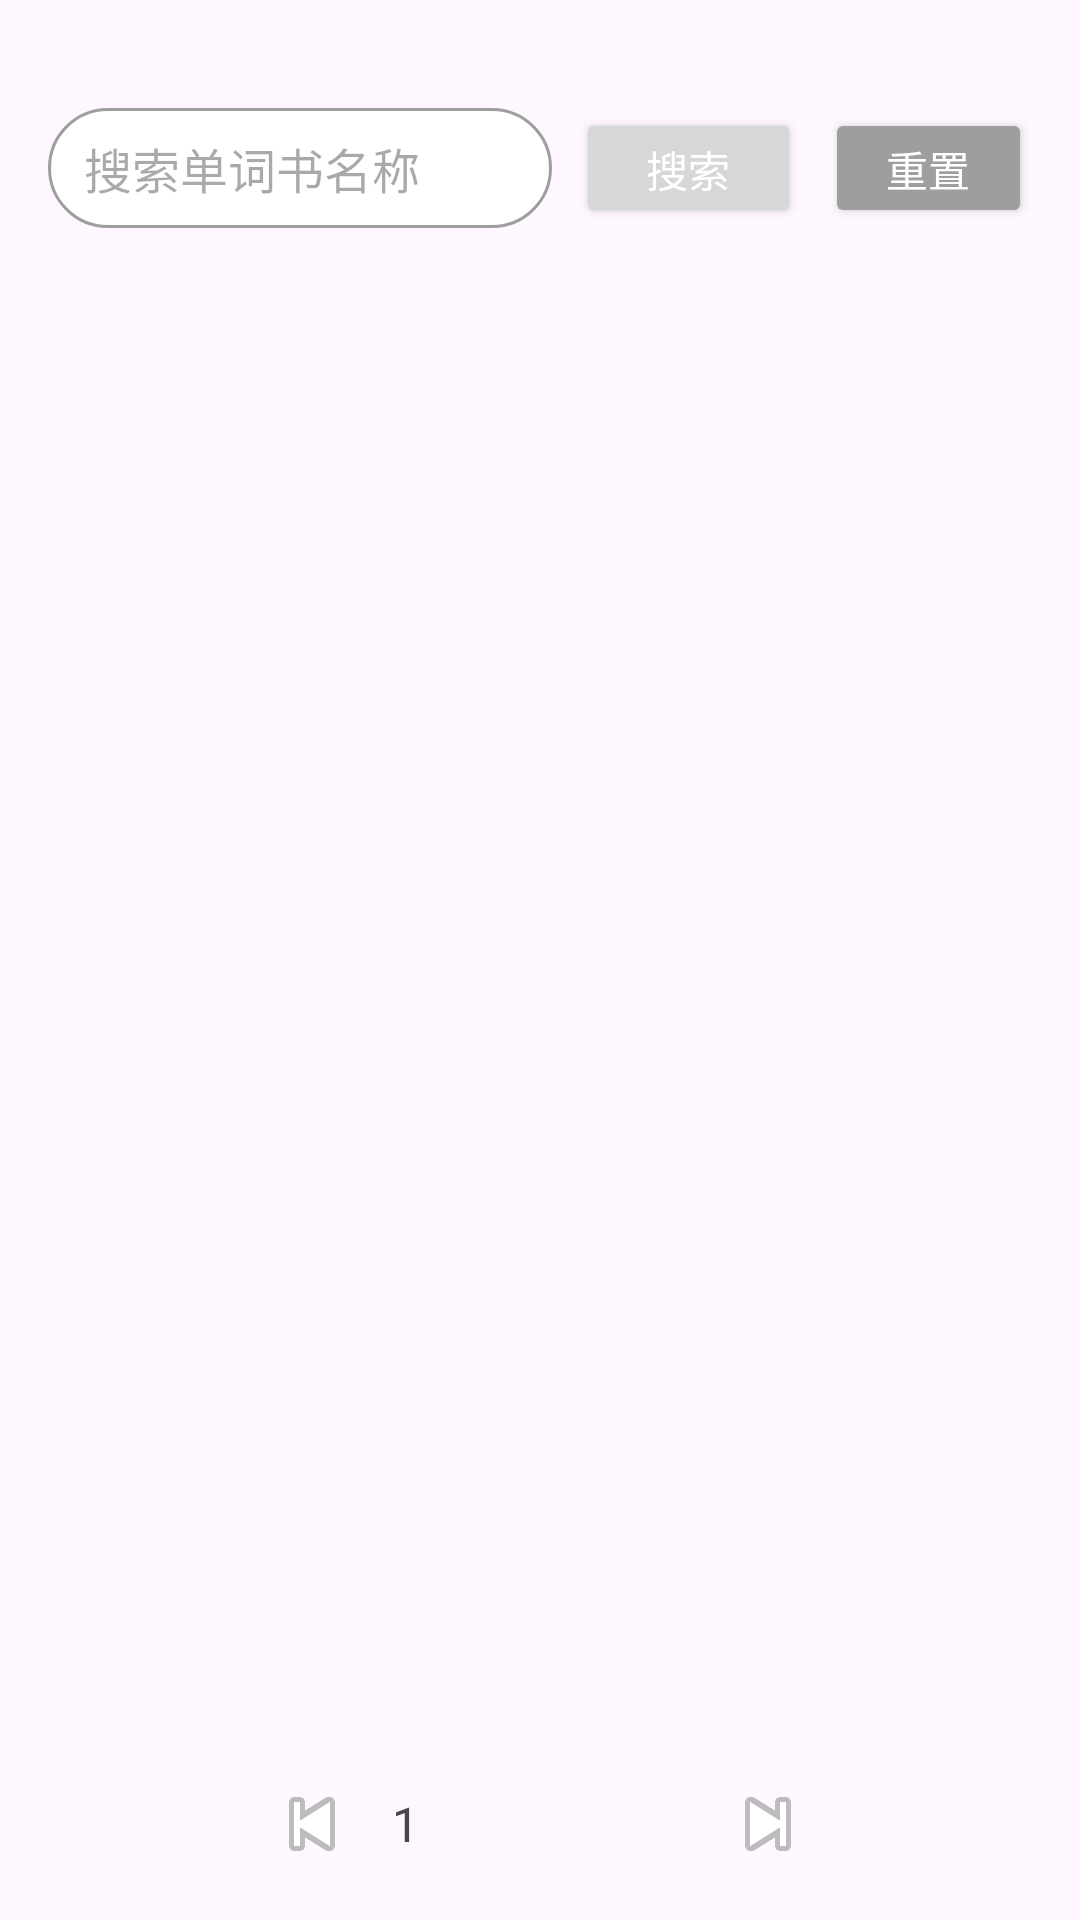

Icon bounding boxes for this 1080 x 1920 phone screenshot, format (x1, y1, x2, y2):
上一页: (289, 1797, 335, 1851)
下一页: (745, 1797, 791, 1851)
